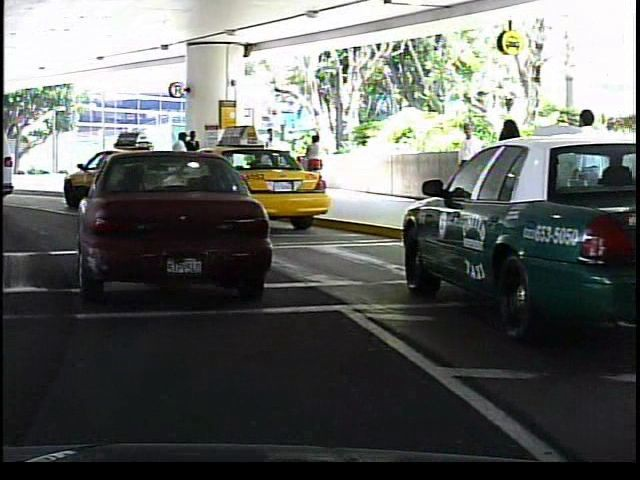person: (488, 109, 539, 247), (562, 99, 606, 242), (451, 116, 485, 213), (257, 123, 284, 192), (300, 130, 326, 189), (168, 130, 192, 192), (185, 127, 204, 191)
